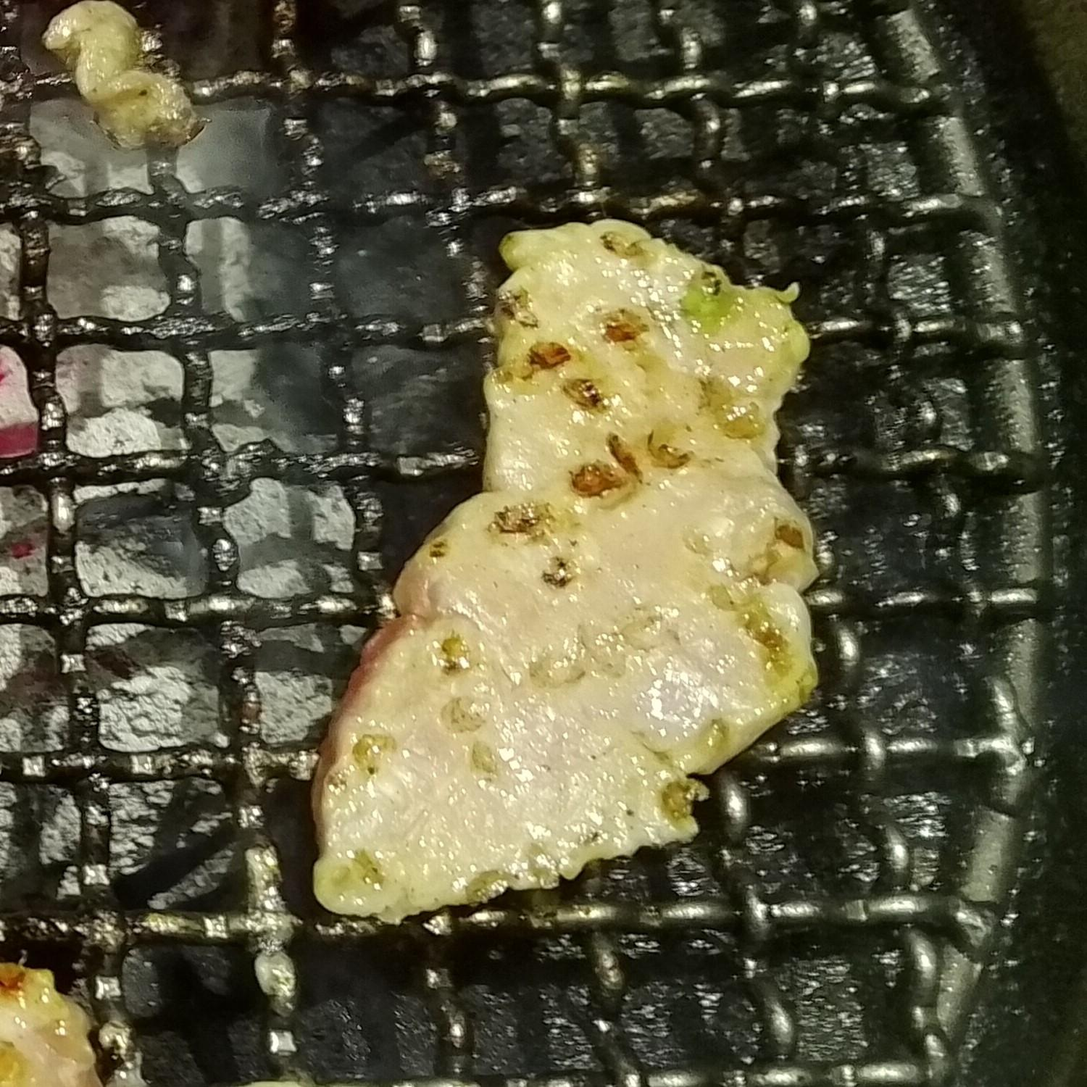Well-Cooked: (308, 220, 831, 928)
